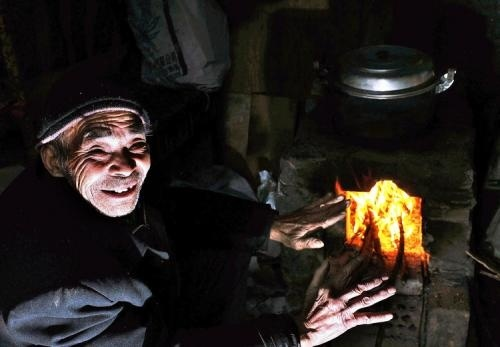fire: (336, 174, 428, 255)
